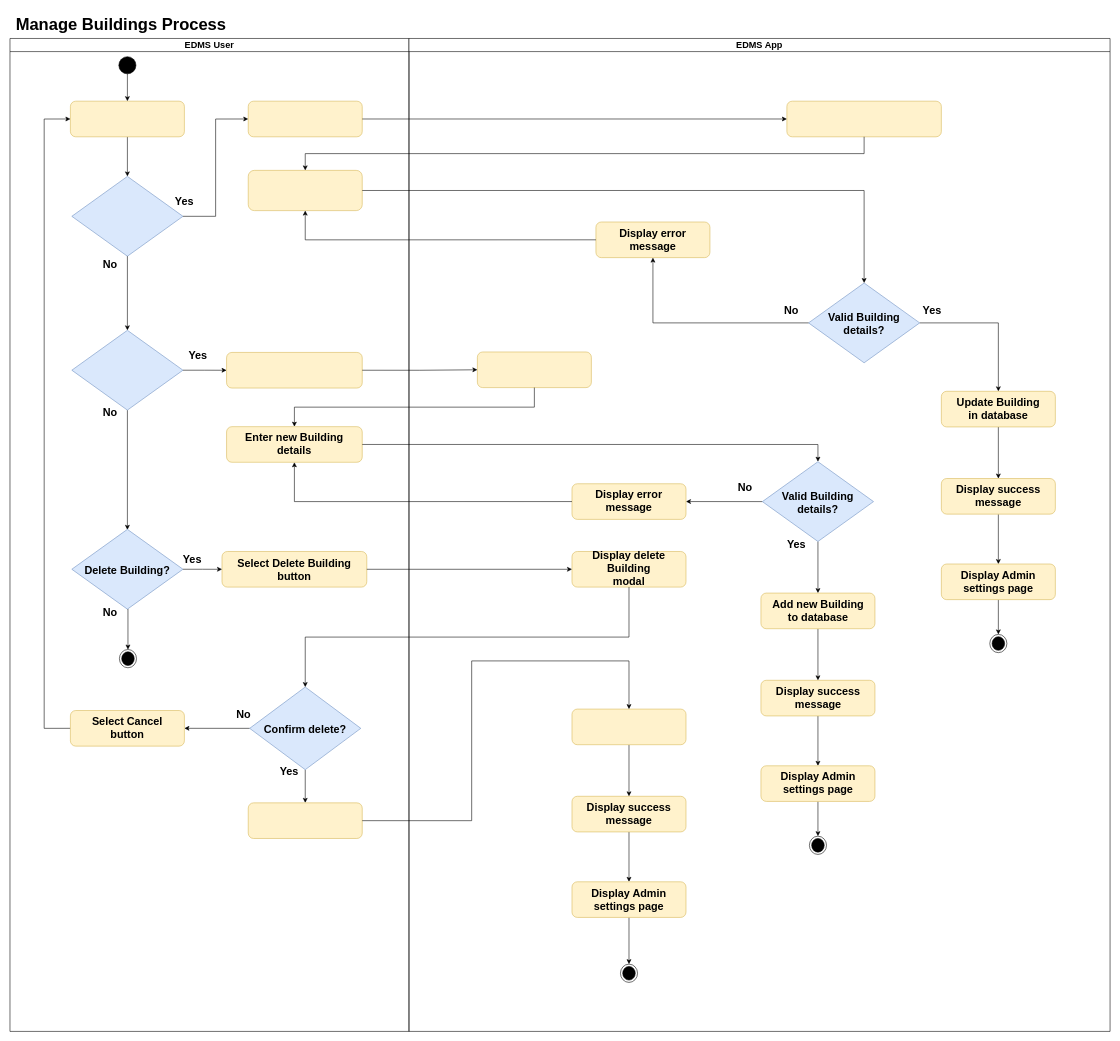
Some shapes in this 1120 by 1041 pixel diagram are drawn without their labels. Here are the shapes that lost their labels. From the top down, the centre of each, then its label:
At point (127, 119): "Navigate to Admin Settings".
At point (305, 119): "Select Edit Building button".
At point (863, 119): "Display the Edit Building modal".
At point (305, 190): "Enter Updated Building details".
At point (127, 216): "Edit Building?".
At point (127, 370): "Add Building?".
At point (294, 370): "Select Add Building button".
At point (534, 369): "Display the Add Building modal".
At point (628, 727): "Delete Building from database".
At point (305, 820): "Select Confirm button".
